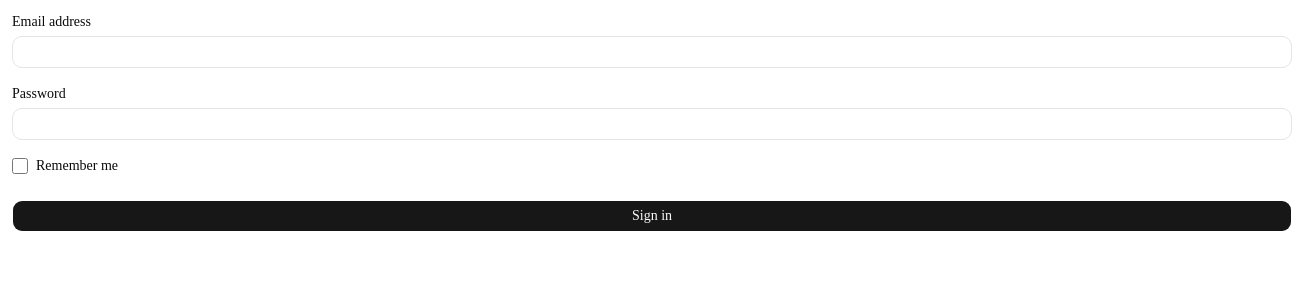
Test case: LoginForm › shows rate-limit message on 429 error
Step 1. Type "user@example.com" into the field labelled "Email address" → (652, 52), box [12,36,1292,68]
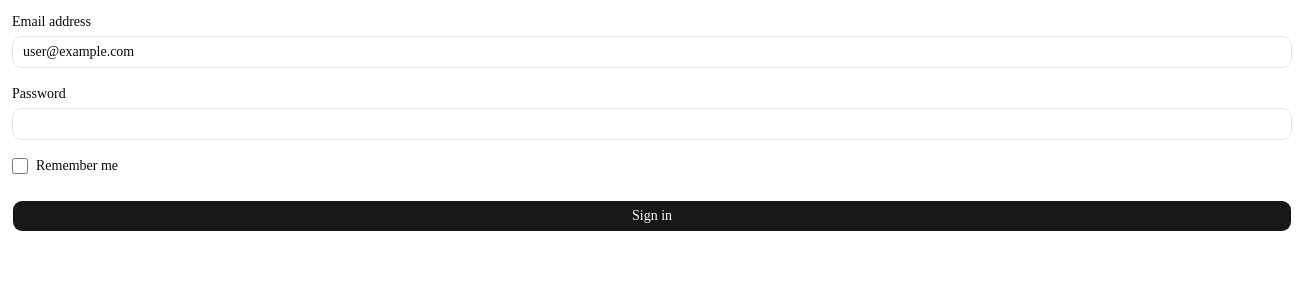
Step 2. Type "somepass" into the password field labelled "Password" → (652, 124), box [12,108,1292,140]
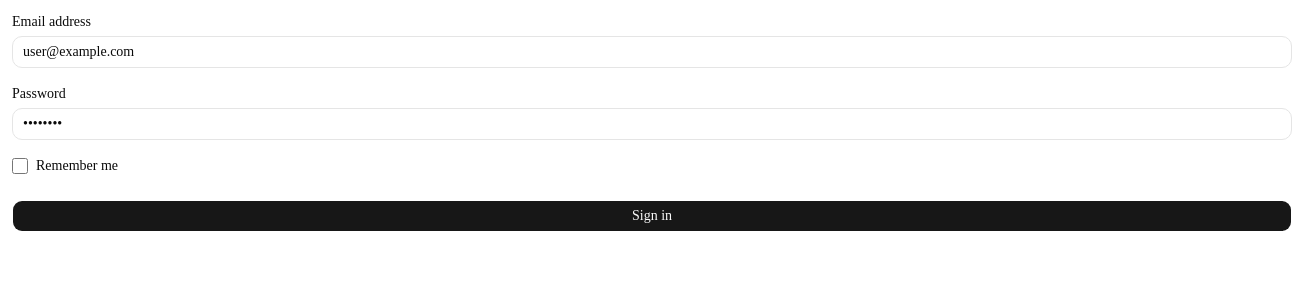
Step 3. Click the button "Sign in" → (652, 216), box [12,200,1292,232]
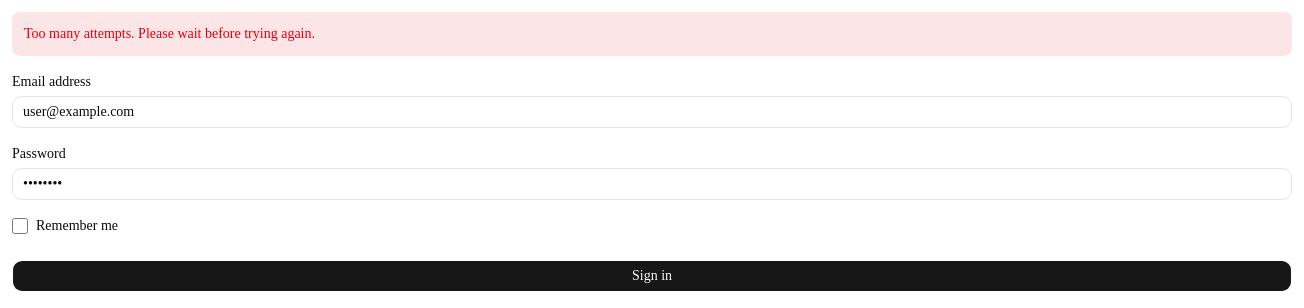
Now the text "Too many attempts. Please wait before trying again." is shown, box [12,12,1292,56]
